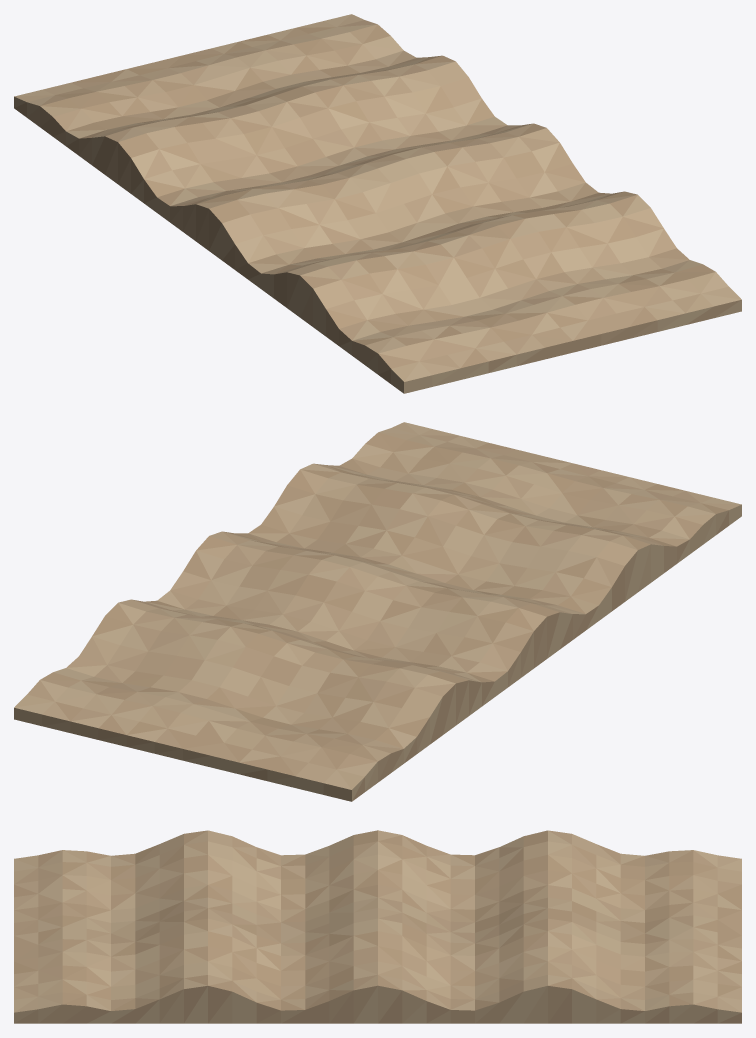
Rendered from 07_whoops.glb.
The picture shows the model from 3 angles, top to bottom: view 1: azimuth 30°, elevation 25°; view 2: azimuth 150°, elevation 25°; view 3: azimuth 270°, elevation 25°; orthographic projection. The views are drawn at different scales.
Visible parts, largest first — view 1: ObstacleMesh; view 2: ObstacleMesh; view 3: ObstacleMesh.
Boxes of the visible parts, box(x1,y1,x2,y2) form: ObstacleMesh: box(14, 14, 741, 393); ObstacleMesh: box(14, 422, 741, 801); ObstacleMesh: box(14, 830, 741, 1023).
Size of the model in its own units: 6 by 0.7529 by 12.
